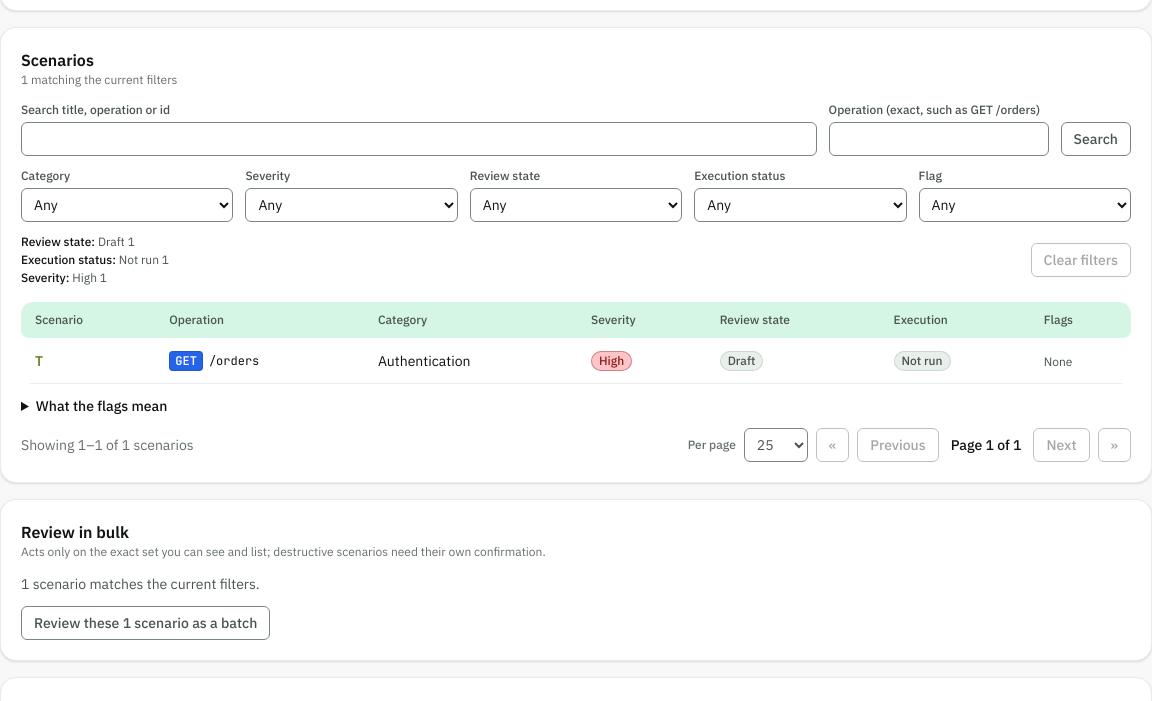
Test: ScenariosArea (T079, FR-004, FR-018 to FR-033) › applies a review action to the open scenario, shows the outcome and reads the list and the scenario again
(page scrolled)
Click the button "T": (39, 360) 35,350 -> 43,370
(page scrolled)
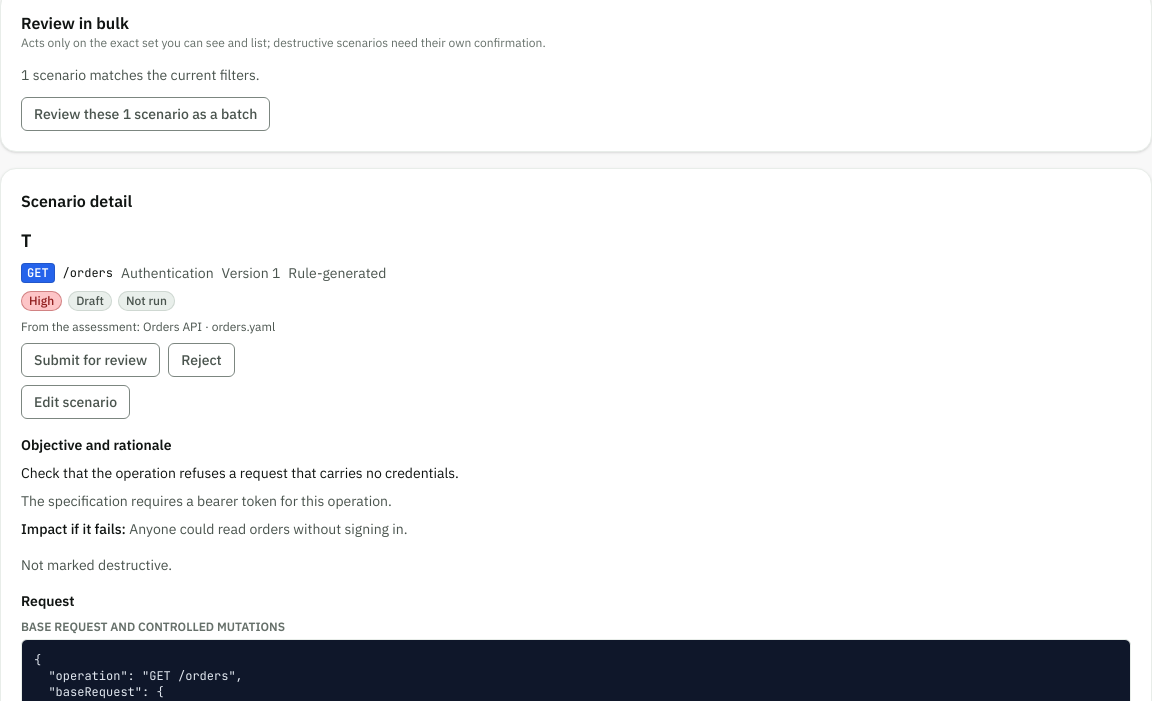
expect the heading "T" is shown: met, box 21,229 -> 32,252
Click the button "Submit for review": (91, 360) 21,343 -> 160,377
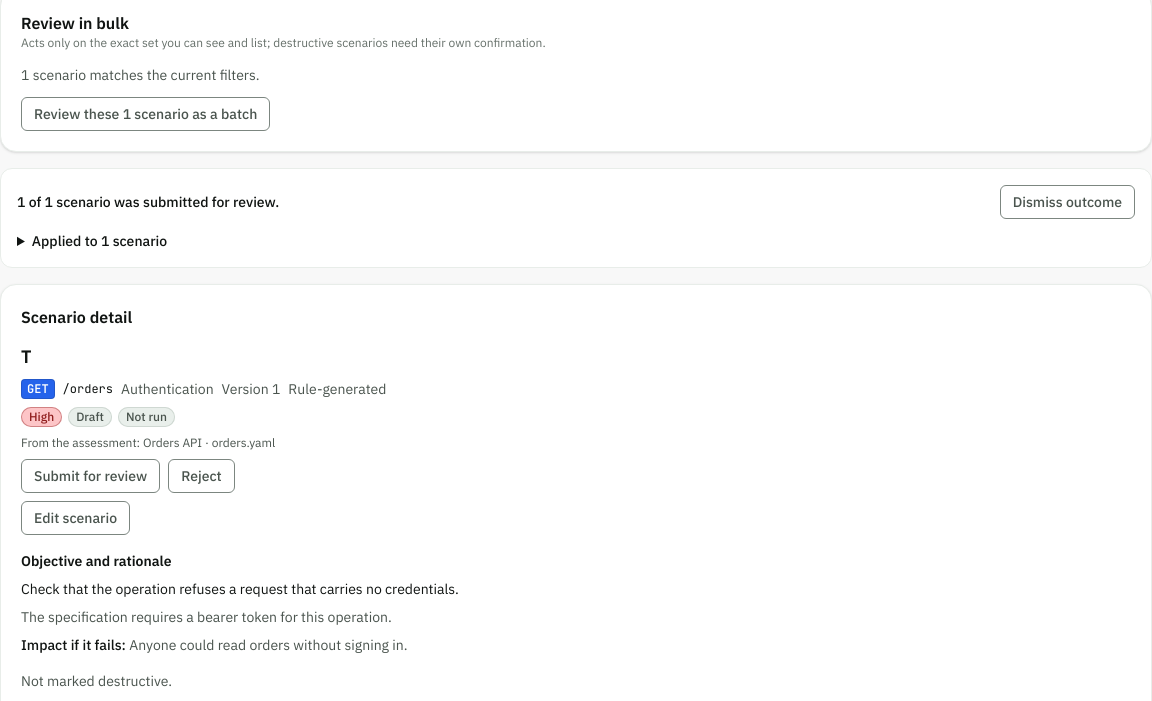
expect the message with test id "review-outcome-summary" reads "1 of 1 scenario was submitted for review.": met, box 17,193 -> 279,211
